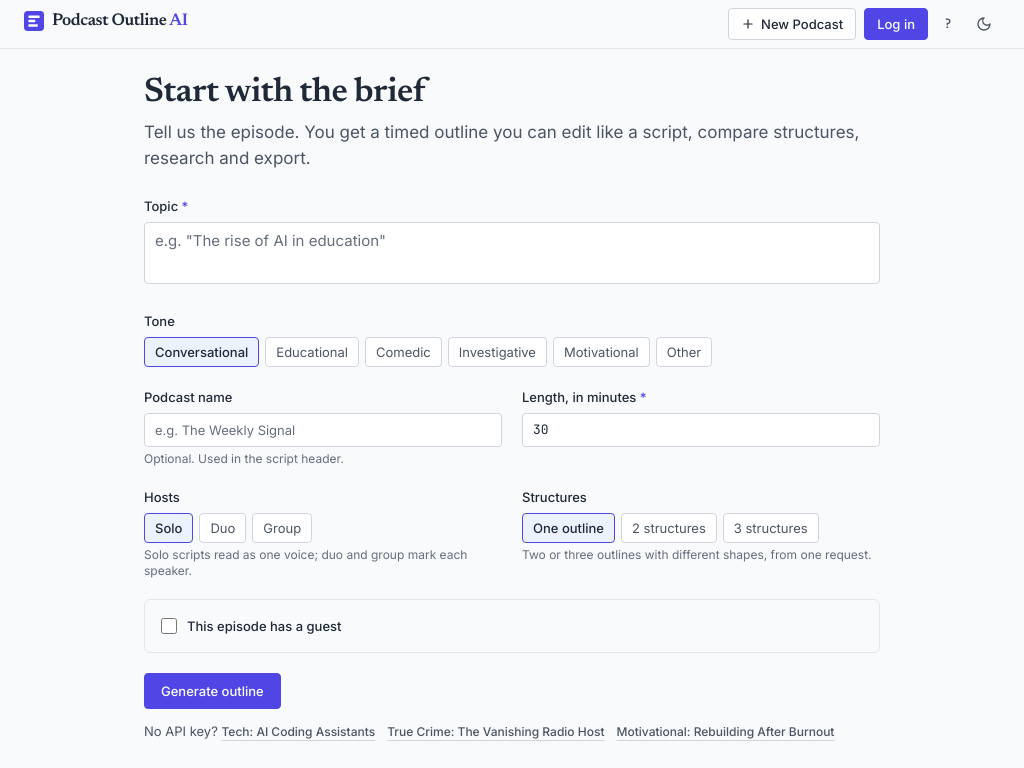
Scenario: errors the server chose to send are final (no second request that would spend more quota) › an error event with LLM_TIMEOUT shows the error card and does not retry with the plain request
Type "Lighthouses" into the text box labelled "Topic *" at [512, 253], box top-left (144, 222), bottom-right (880, 284)
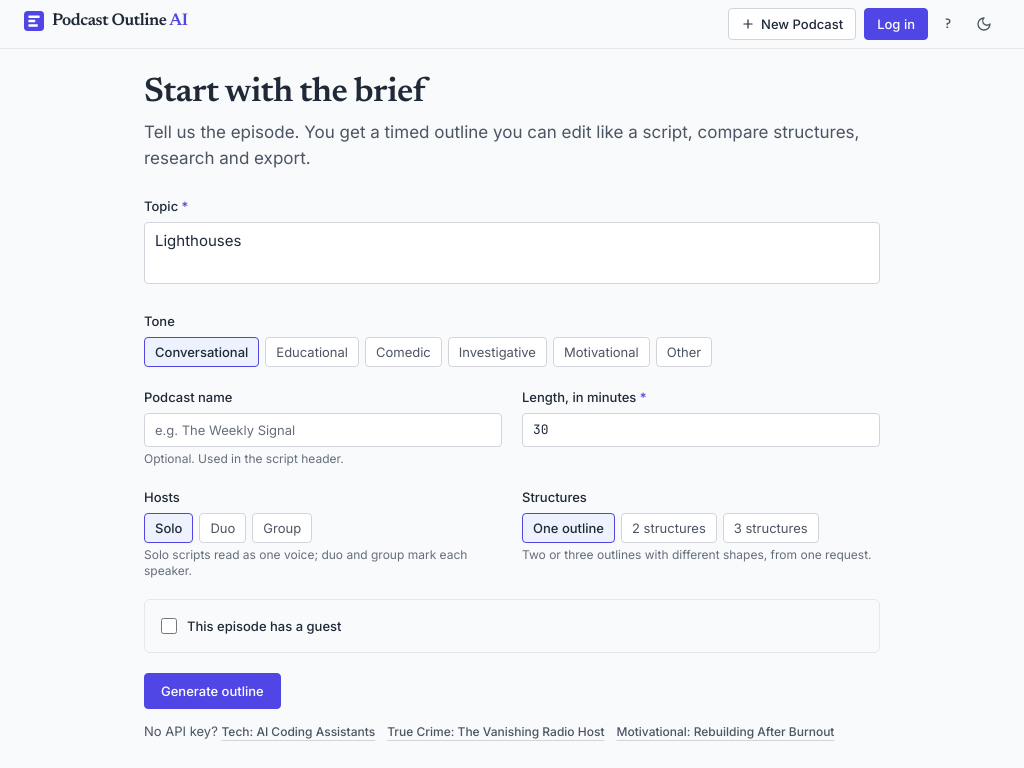
Click the button "Generate outline" at [212, 691], box top-left (144, 673), bottom-right (281, 709)
(page scrolled)
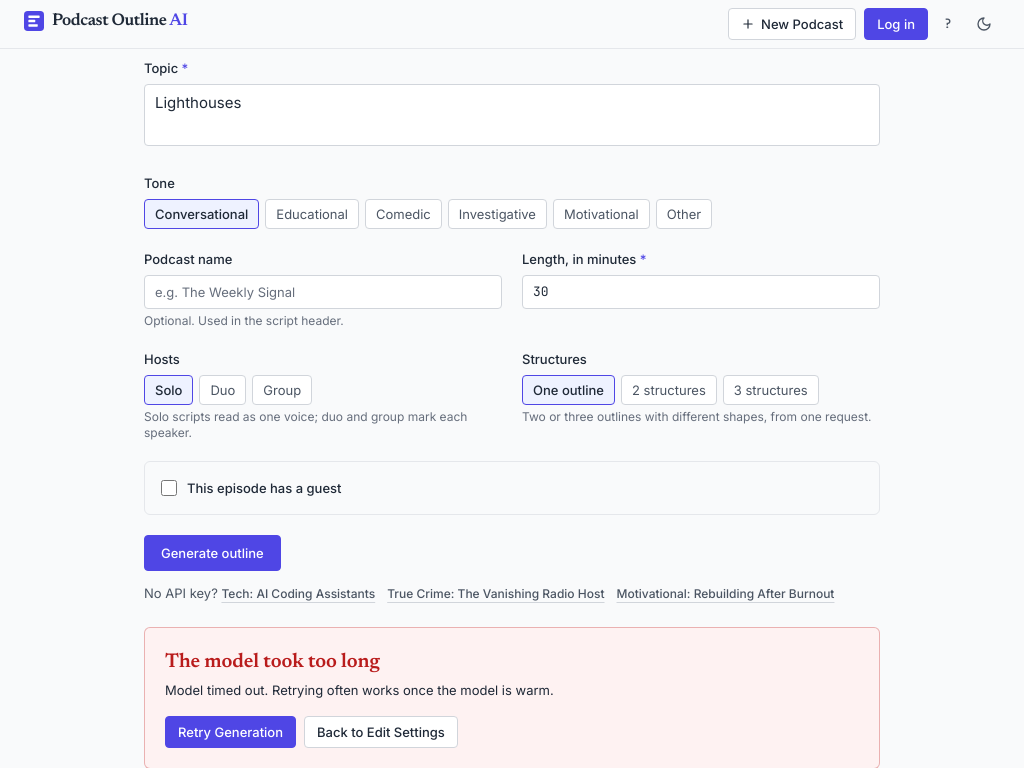
Expected: the heading "The model took too long" is shown, top-left (165, 652), bottom-right (380, 672)
